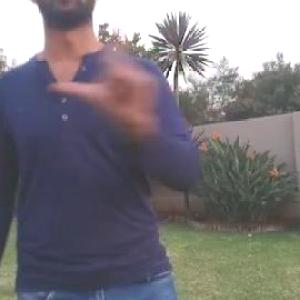land_hand: (48, 8, 158, 113)
